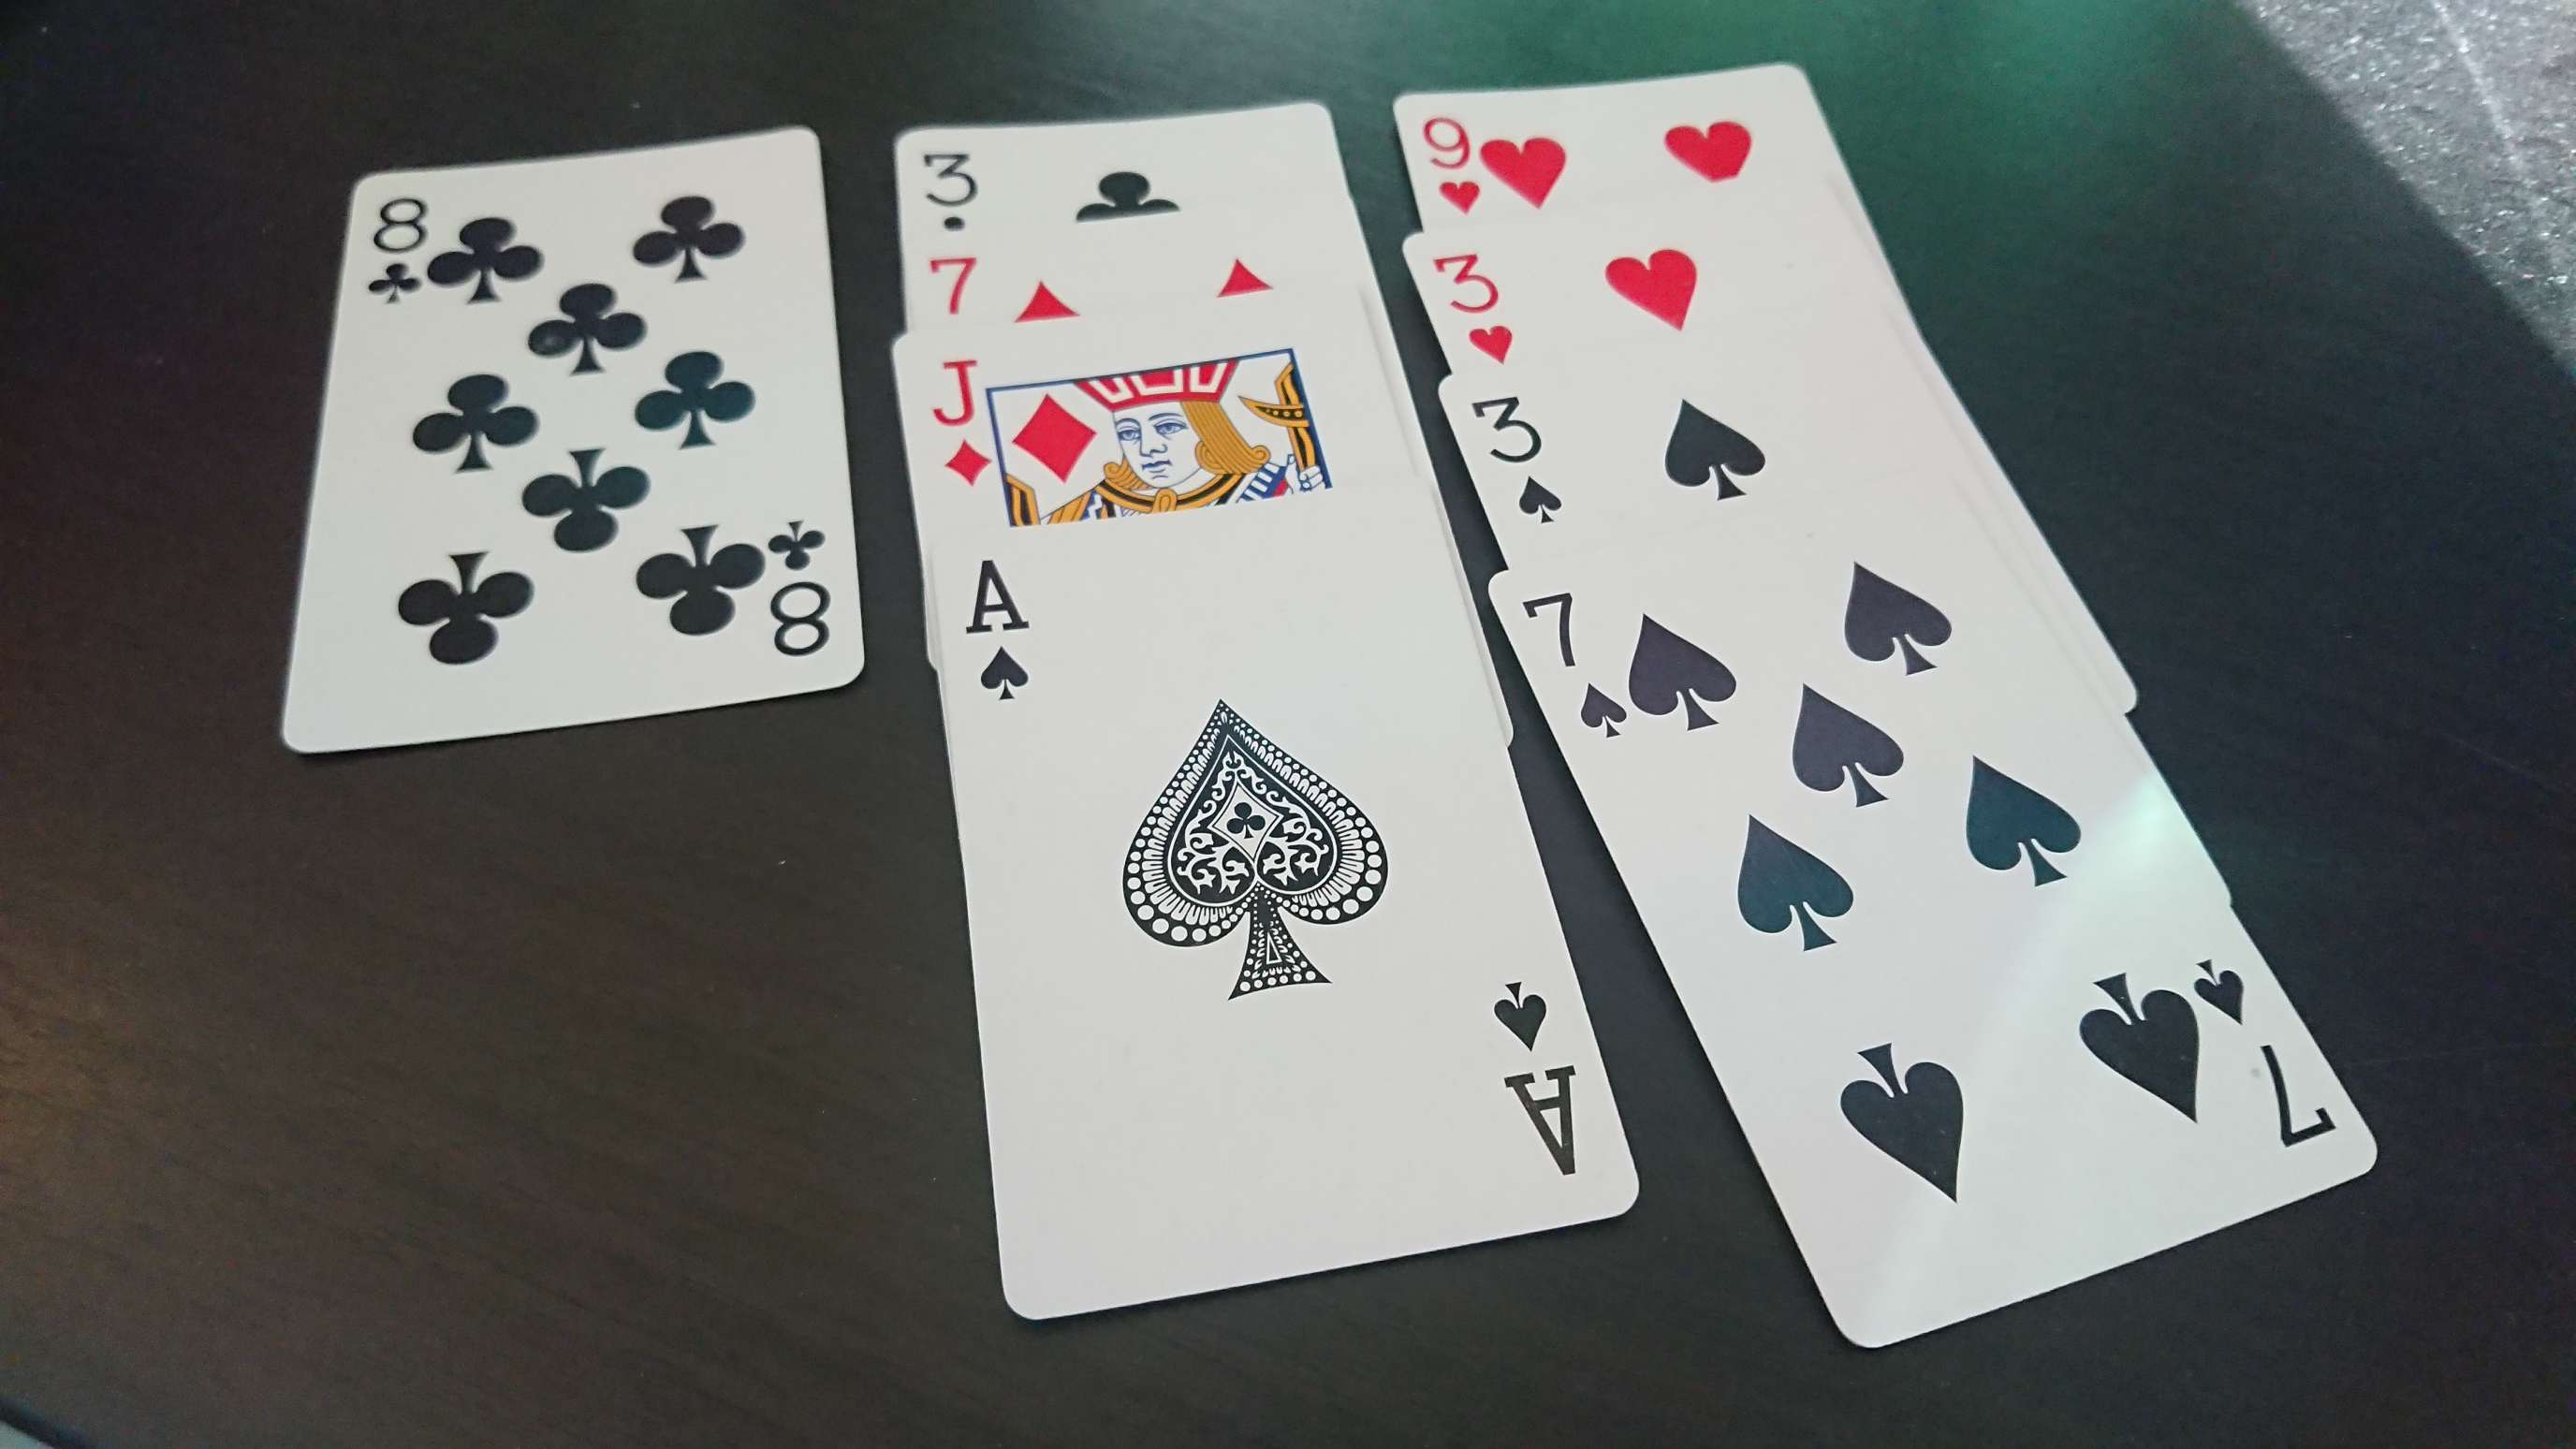3C: (916, 149, 984, 234)
3H: (1428, 249, 1520, 368)
3S: (1468, 389, 1569, 527)
7S: (1518, 589, 1631, 741)
8C: (363, 189, 430, 311)
9H: (1415, 111, 1486, 219)
AS: (961, 552, 1037, 706)
JD: (924, 354, 1010, 492)
